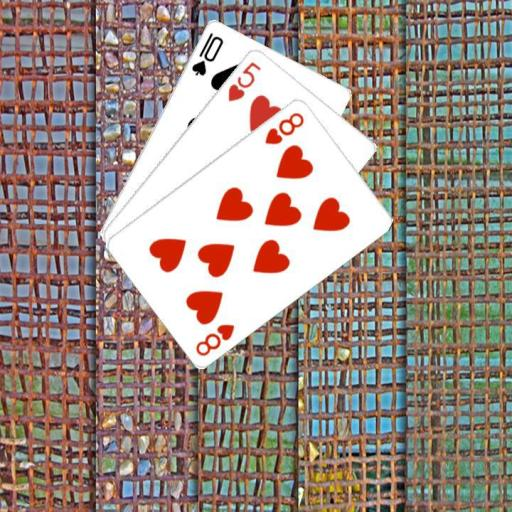10S: (188, 28, 225, 77)
5H: (224, 58, 262, 103)
8H: (261, 108, 306, 146), (192, 320, 236, 358)
